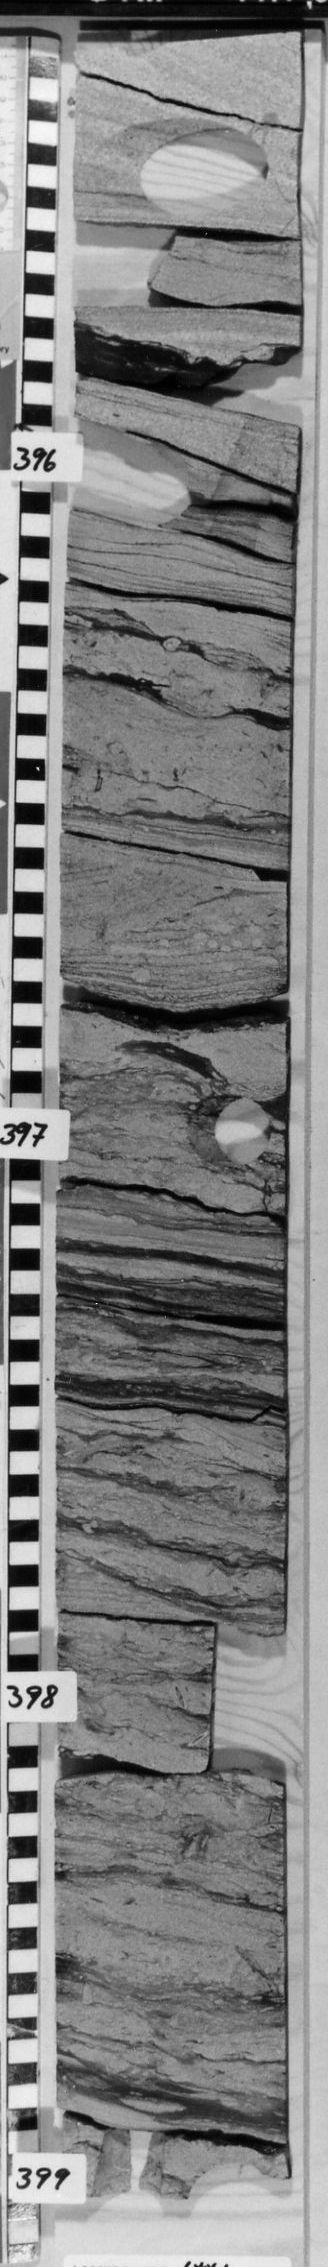hplug: (120, 429, 194, 541), (179, 1087, 273, 1170), (184, 2156, 288, 2203)
scal: (90, 123, 275, 218)
vplug: (201, 1611, 285, 1796), (197, 419, 288, 552), (87, 2121, 171, 2195)
